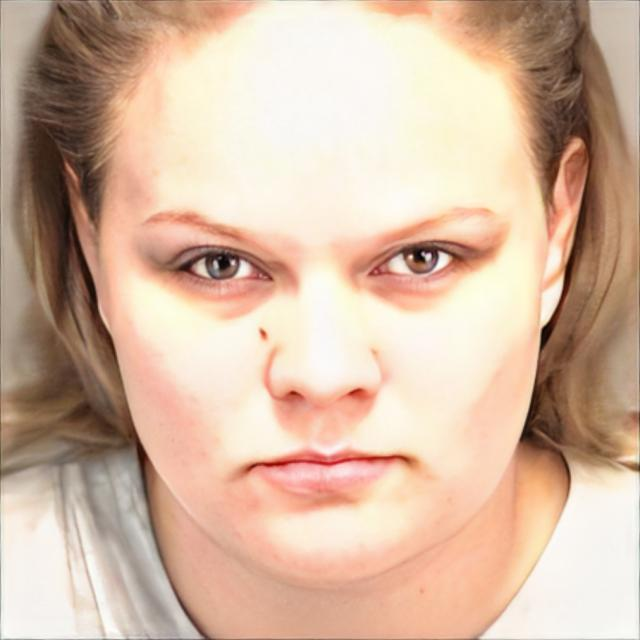anger: (102, 33, 540, 592)
